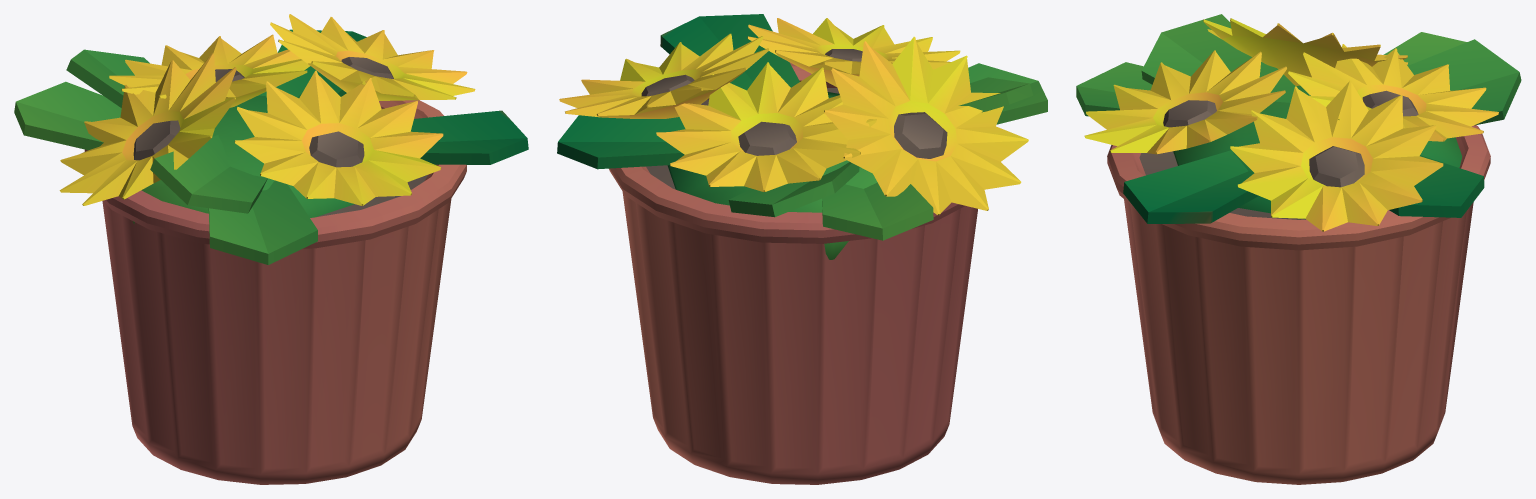
Rendered from OrnateFlowerPotYellow.fbx.
3 views of the same model, side by side, from view 1: azimuth 30°, elevation 25°; view 2: azimuth 150°, elevation 25°; view 3: azimuth 270°, elevation 25° (orthographic). The views are drawn at different scales.
Visible parts, largest first — view 1: OrnateFlowerPotYellow; view 2: OrnateFlowerPotYellow; view 3: OrnateFlowerPotYellow.
Part boxes in pixels (x1,y1,x2,y2): OrnateFlowerPotYellow: [14, 14, 528, 484]; OrnateFlowerPotYellow: [557, 14, 1047, 484]; OrnateFlowerPotYellow: [1076, 14, 1521, 484].
Size of the model in its own units: 0.4216 by 0.3744 by 0.4003.
